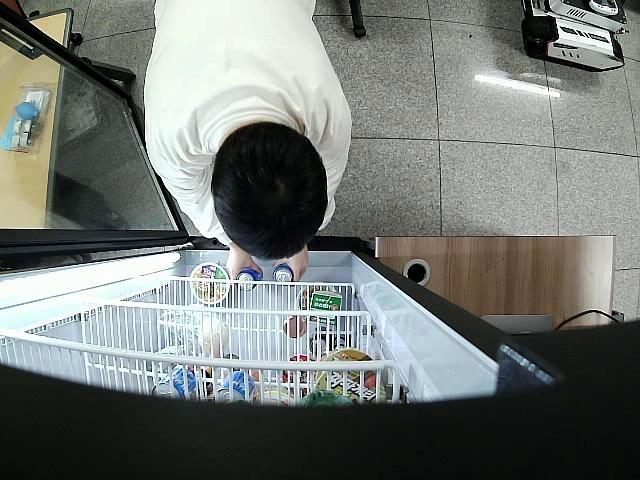13_pocariSweat: (236, 266, 262, 291), (273, 263, 294, 286)
